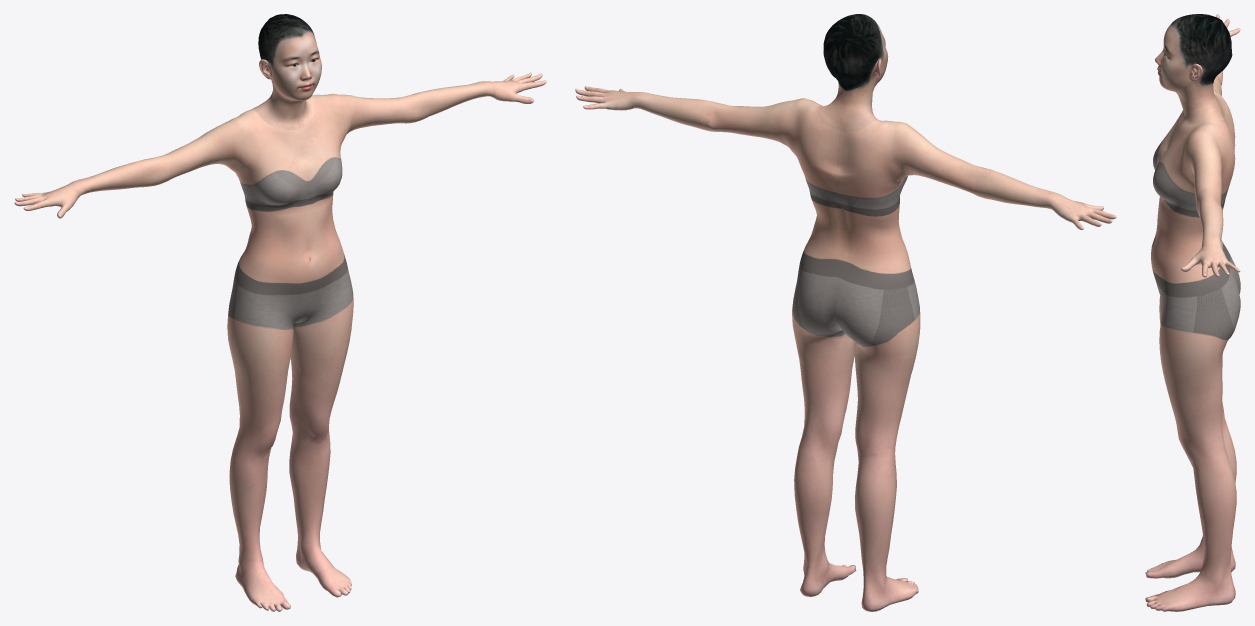
The model's file is full_body.obj.
The picture shows the model from 3 angles, left to right: view 1: azimuth 30°, elevation 25°; view 2: azimuth 150°, elevation 25°; view 3: azimuth 270°, elevation 25°; orthographic projection.
Size of the model in its own units: 1.7 by 1.75 by 0.2636.
1 material, 1 textured.
